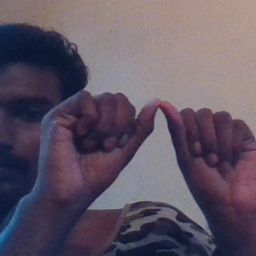A: (70, 87, 239, 198)
